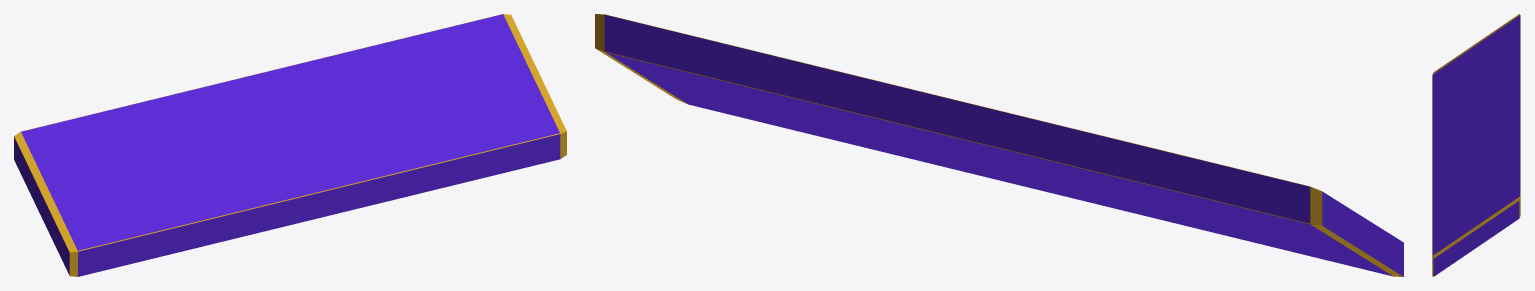
File: stairs01.fbx
3 renders of one model, left to right at view 1: azimuth 30°, elevation 25°; view 2: azimuth 150°, elevation 25°; view 3: azimuth 270°, elevation 25°, orthographic. The views are drawn at different scales.
Visible parts, largest first — view 1: Cube.001; view 2: Cube.001; view 3: Cube.001.
Part boxes in pixels (left/top/right/bottom): Cube.001: left=14, top=14, right=566, bottom=276; Cube.001: left=595, top=14, right=1403, bottom=276; Cube.001: left=1432, top=14, right=1520, bottom=276.
Size of the model in its own units: 1000 by 199 by 200.
